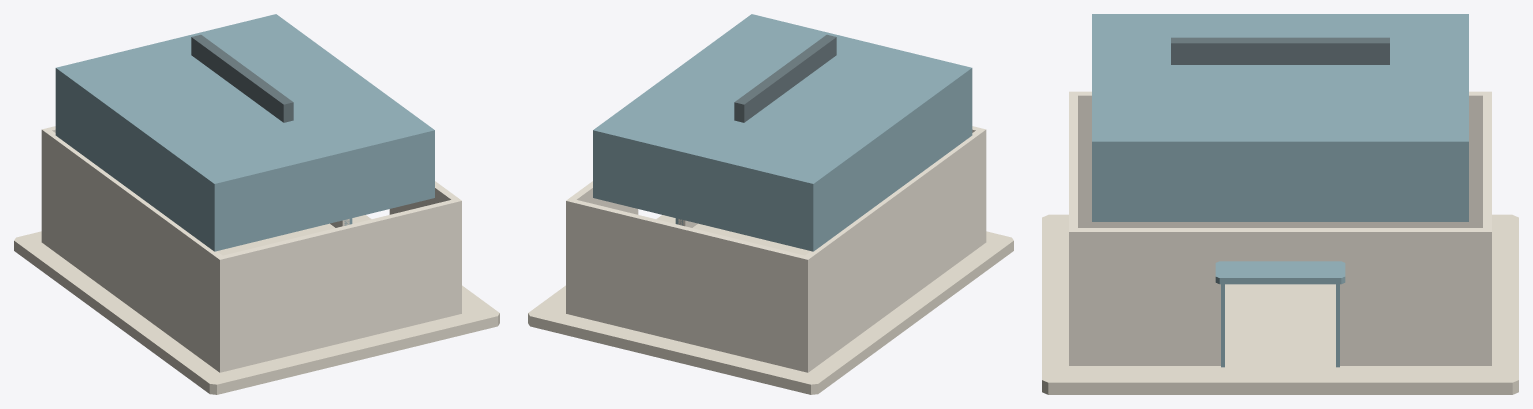
The model's file is Colony_Substation_v4_ShadowProxy.glb.
The picture shows the model from 3 angles, left to right: view 1: azimuth 30°, elevation 25°; view 2: azimuth 150°, elevation 25°; view 3: azimuth 270°, elevation 25°; orthographic projection. The views are drawn at different scales.
Visible parts, largest first — view 1: Colony_Substation_v4_ShadowProxy / Roof, Colony_Substation_v4_ShadowProxy / Structure, Colony_Substation_v4_ShadowProxy / Foundation; view 2: Colony_Substation_v4_ShadowProxy / Roof, Colony_Substation_v4_ShadowProxy / Structure, Colony_Substation_v4_ShadowProxy / Foundation; view 3: Colony_Substation_v4_ShadowProxy / Roof, Colony_Substation_v4_ShadowProxy / Structure, Colony_Substation_v4_ShadowProxy / Foundation, Colony_Substation_v4_ShadowProxy / Entrance modules.
Part boxes in pixels (x1=…): Colony_Substation_v4_ShadowProxy / Roof: x1=55, y1=14, x2=434, y2=251; Colony_Substation_v4_ShadowProxy / Structure: x1=41, y1=126, x2=461, y2=372; Colony_Substation_v4_ShadowProxy / Foundation: x1=14, y1=215, x2=499, y2=394; Colony_Substation_v4_ShadowProxy / Roof: x1=593, y1=14, x2=972, y2=251; Colony_Substation_v4_ShadowProxy / Structure: x1=566, y1=126, x2=986, y2=372; Colony_Substation_v4_ShadowProxy / Foundation: x1=528, y1=215, x2=1013, y2=394; Colony_Substation_v4_ShadowProxy / Roof: x1=1092, y1=14, x2=1468, y2=221; Colony_Substation_v4_ShadowProxy / Structure: x1=1069, y1=91, x2=1491, y2=365; Colony_Substation_v4_ShadowProxy / Foundation: x1=1042, y1=214, x2=1518, y2=394; Colony_Substation_v4_ShadowProxy / Entrance modules: x1=1215, y1=261, x2=1345, y2=387.
Bounding box in the file's own units: 10 × 7.28 × 12.
